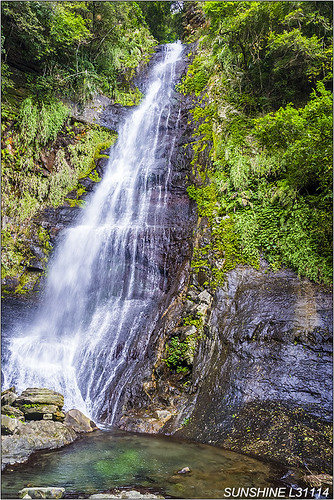wufengciWaterfall: (52, 33, 185, 417)
